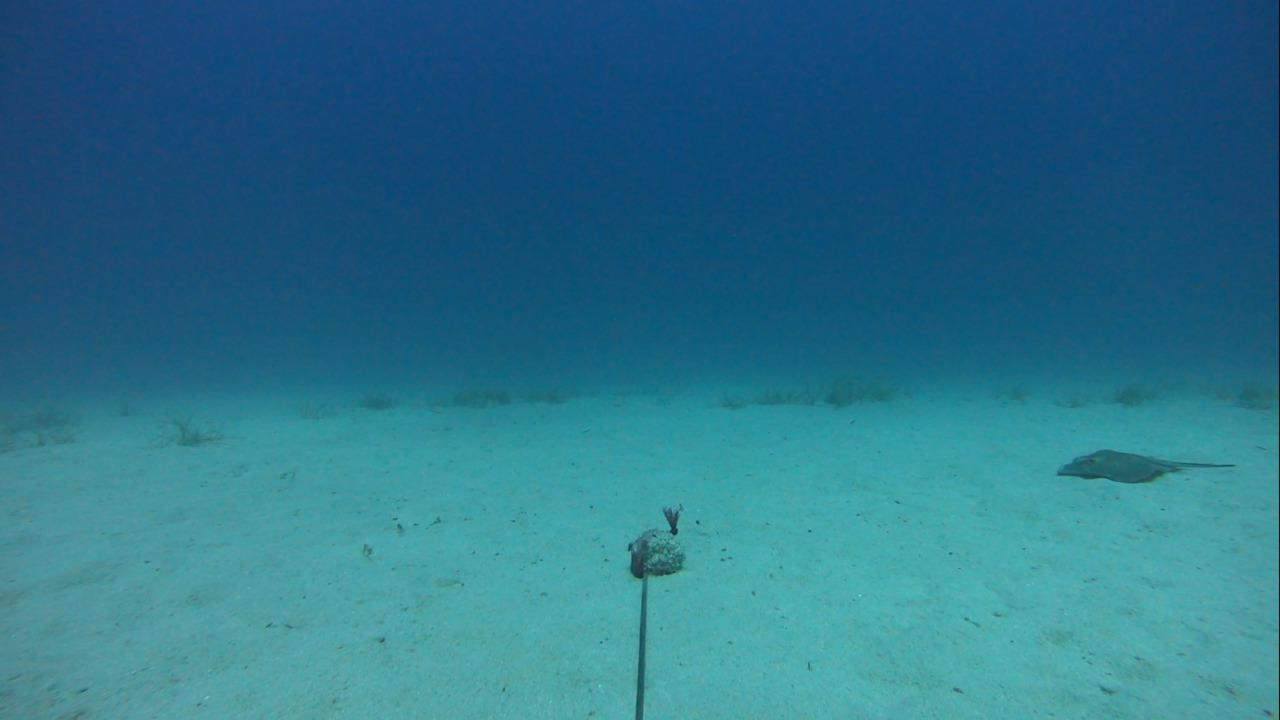myliobatis: (1048, 446, 1233, 487)
